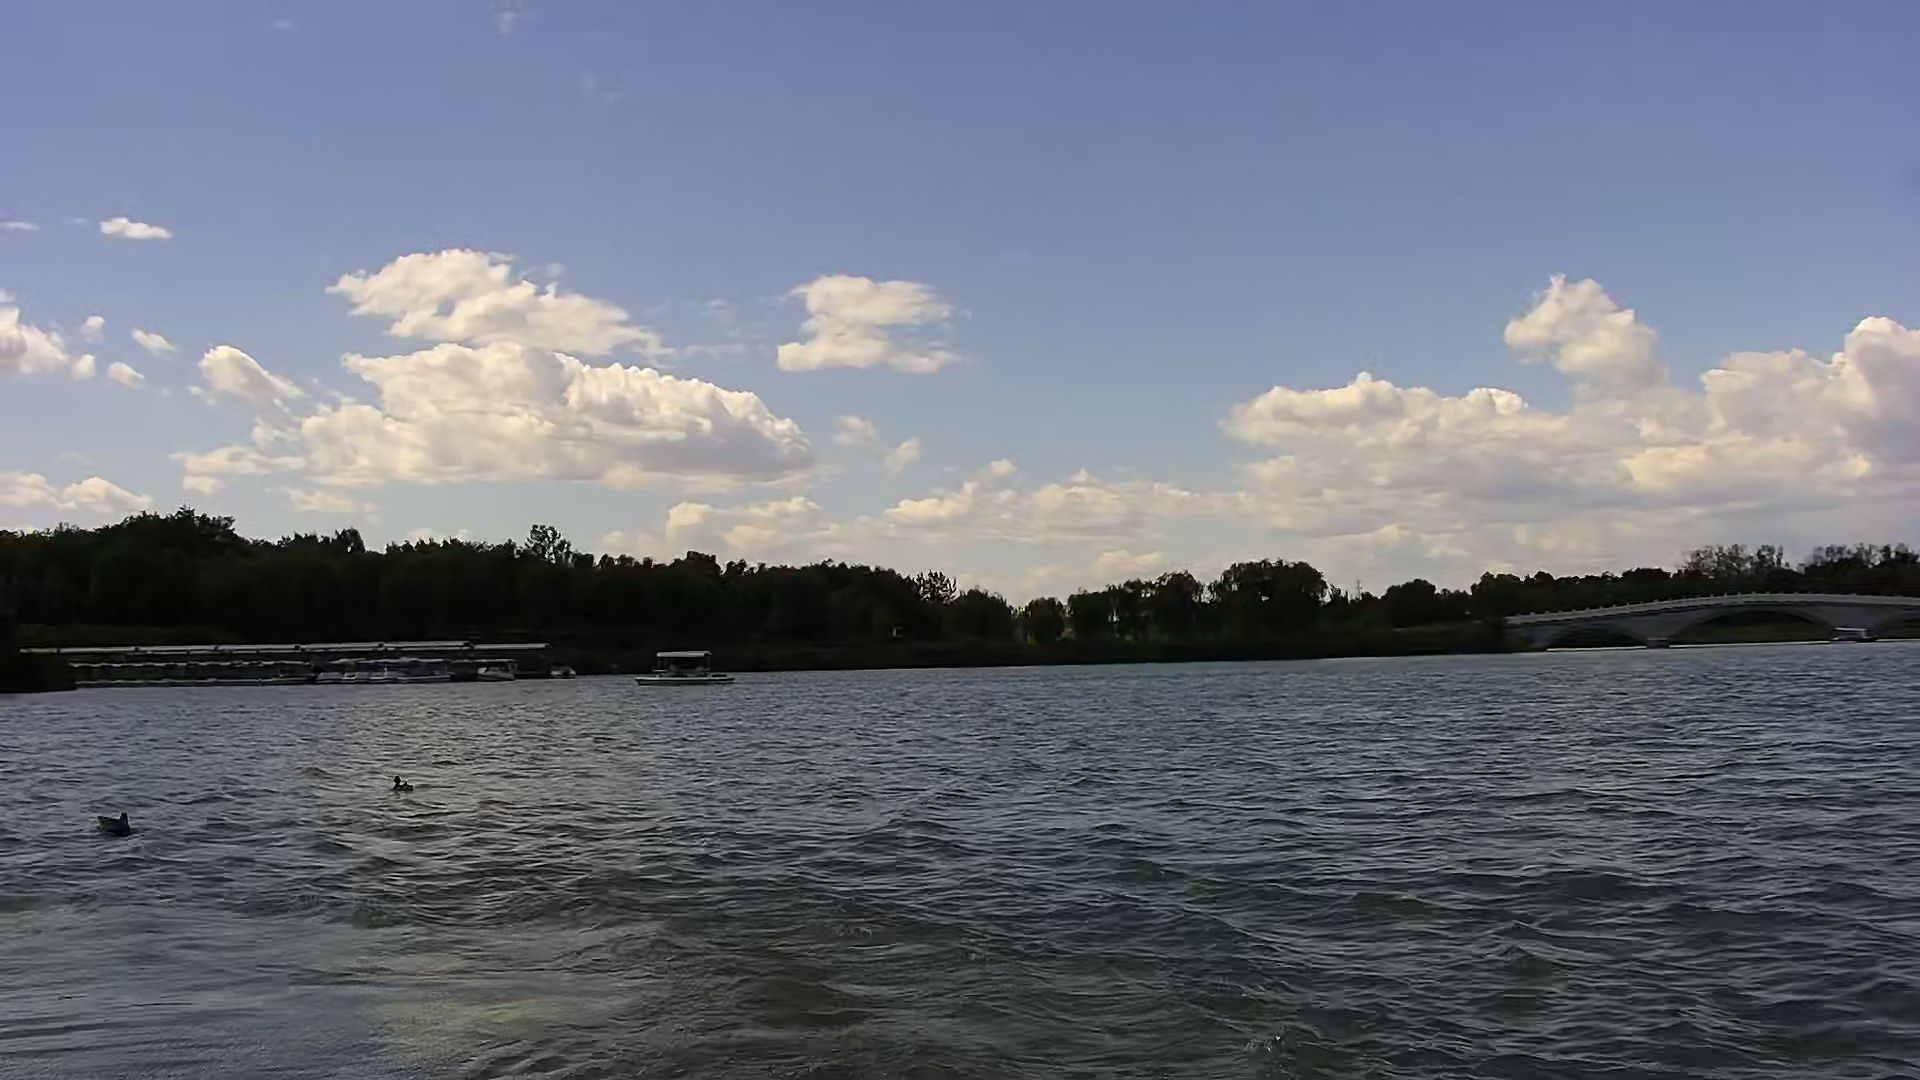animal: (92, 806, 142, 844), (388, 771, 421, 798)
boat: (636, 649, 742, 691)
bridge: (1510, 588, 1920, 658)
harbor: (1, 636, 553, 684)
